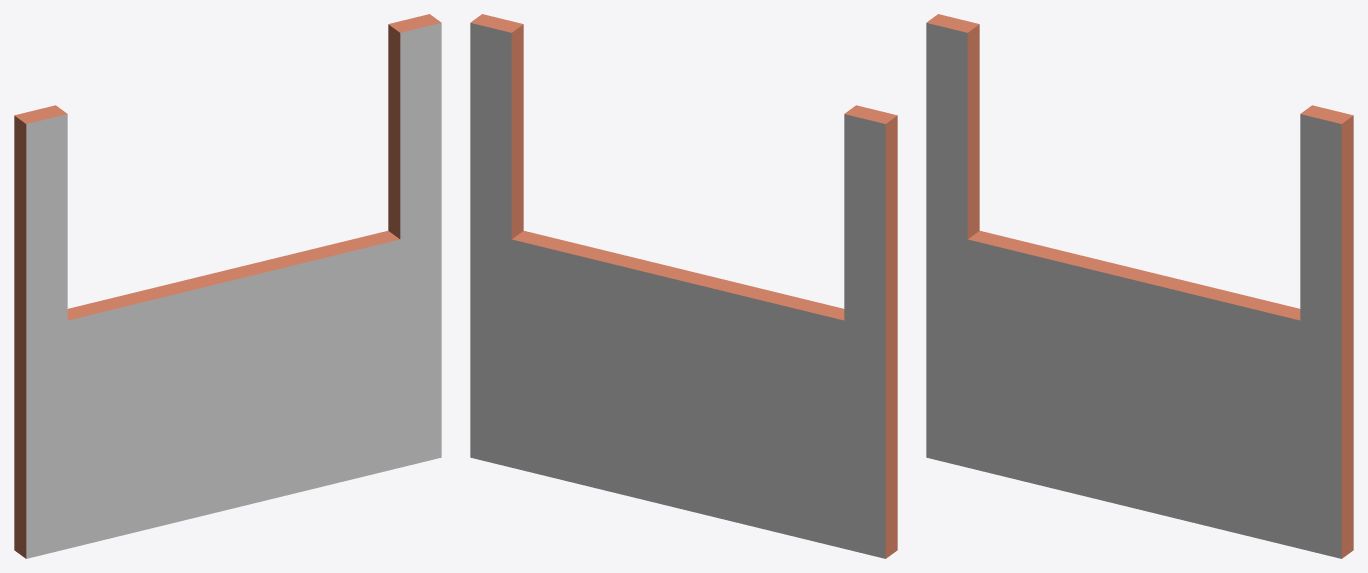
Rendered from Long window.fbx.
3 renders of one model, left to right at view 1: azimuth 30°, elevation 25°; view 2: azimuth 150°, elevation 25°; view 3: azimuth 330°, elevation 25°, orthographic.
Parts seen in each view (by area): view 1: Long window; view 2: Long window; view 3: Long window.
Boxes of the visible parts, bbox=[...] form: Long window: bbox=[14, 14, 441, 558]; Long window: bbox=[470, 14, 897, 558]; Long window: bbox=[926, 14, 1353, 558].
Size of the model in its own units: 200 by 200 by 10.
